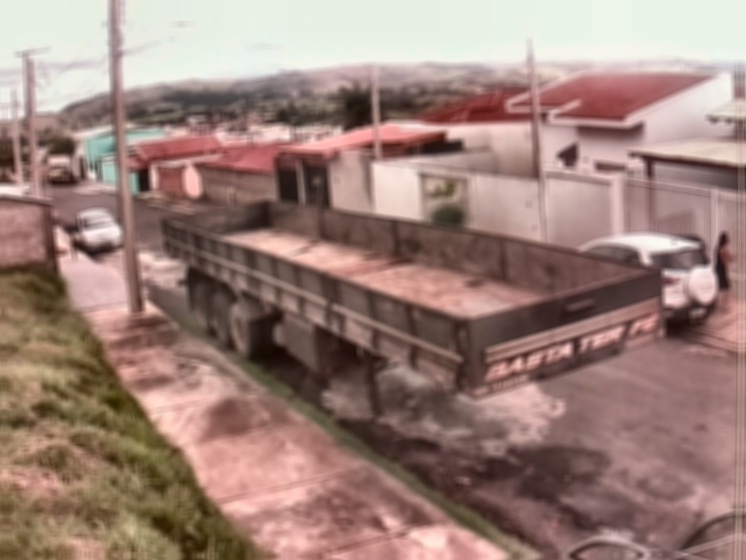person: (712, 230, 736, 320)
